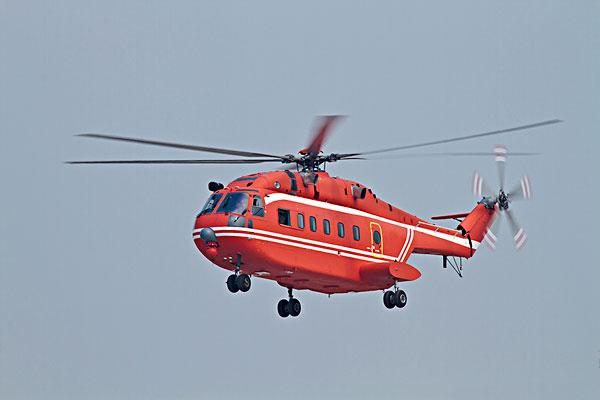airplane: (47, 100, 571, 320)
